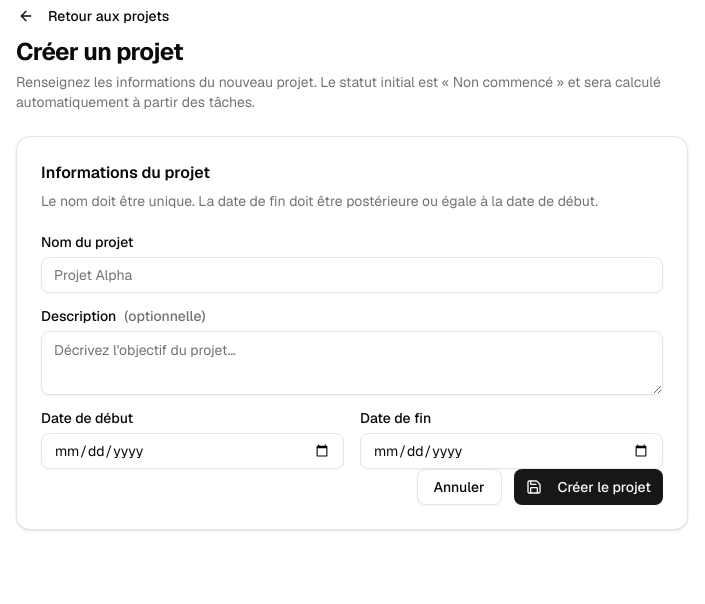
Formulaire de création de projet › affiche des erreurs quand on soumet un formulaire vide
This screenshot has width=705, height=604.
Click the button "Créer le projet" at (588, 487), box [514,469,663,505]
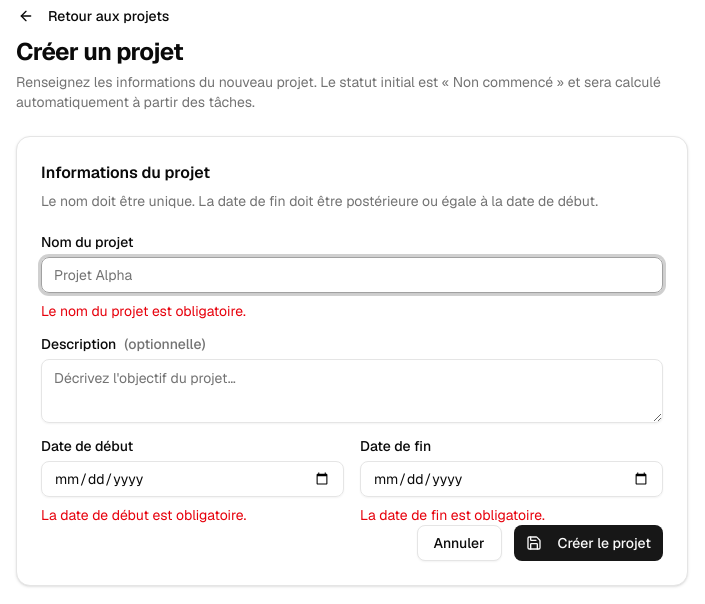
Expected: the text "Le nom du projet est obligatoire." is shown, [41,302,246,320]
Expected: the text "La date de début est obligatoire." is shown, [41,506,246,524]
Expected: the text "La date de fin est obligatoire." is shown, [360,506,545,524]
